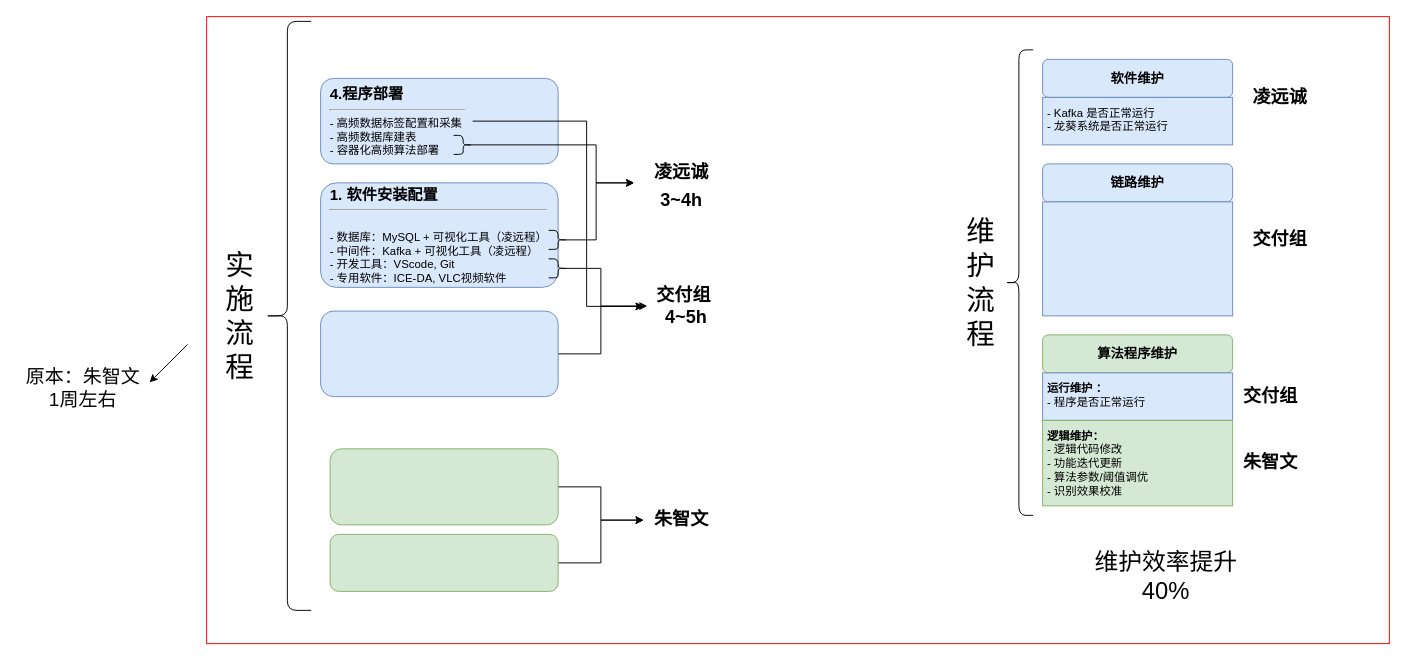
The diagram is 1406 pixels wide and 660 high, and some of its shapes have lost their labels. Each missing label, with the centre of its shape:
2. 环境配置 - 基础环境：python - 依赖安装：算法环境包: point 443,486
3链路调试 - 网络链路：视频流 / OPC服务器 IP联通: point 439,353
5. 算法优化调试 - 结果调优: point 443,562
网络链路： - 视频流是否联通 - OPC服务器是否联通 数据链路： - Kafka 网络链路正常 - MySQL 网络链路正常: point 1137,258
